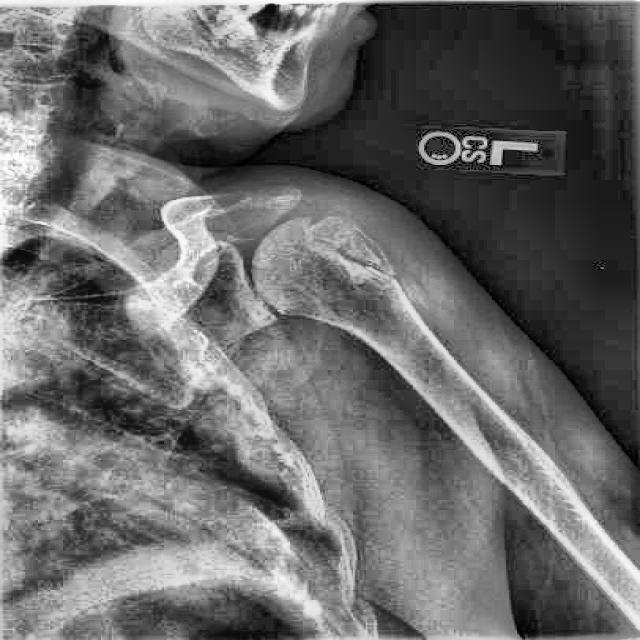shoulder fracture: (290, 198, 410, 308)
